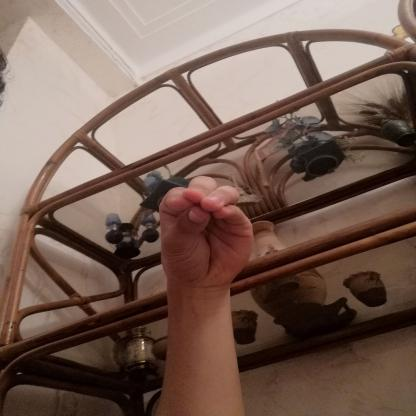HA: (139, 161, 270, 298)
